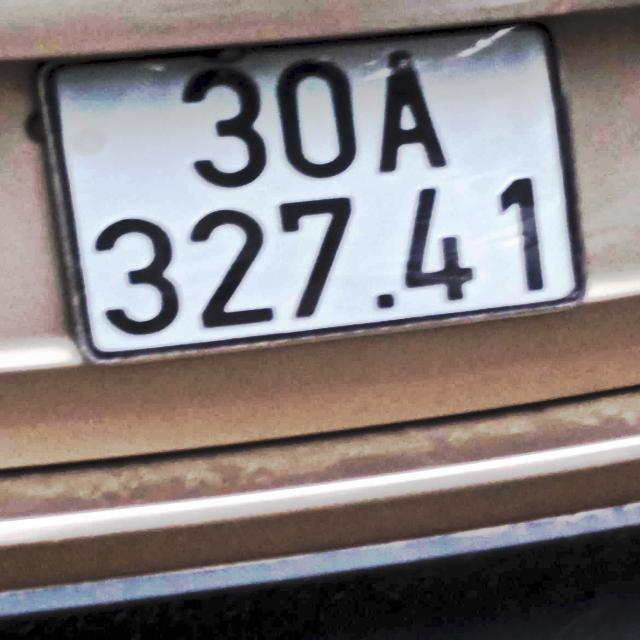license_plate: (25, 17, 598, 365)
